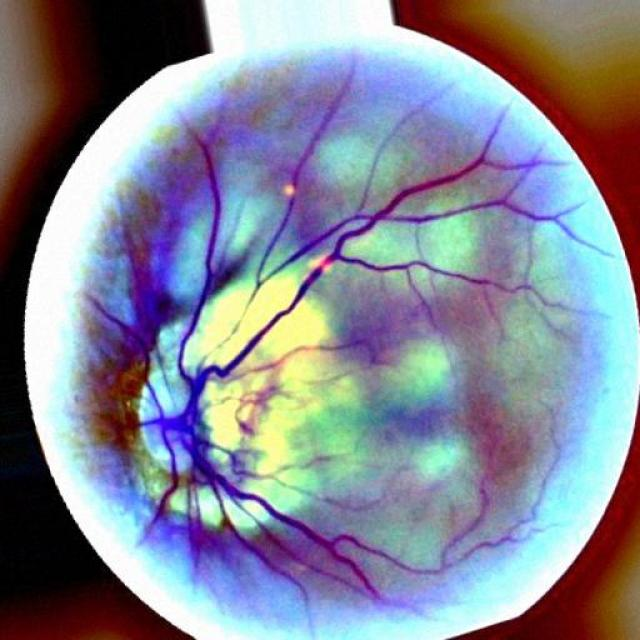Macula: (248, 162, 327, 227)
Nerves: (203, 109, 553, 375), (221, 475, 523, 597), (158, 417, 310, 613)
Optic Disk: (143, 282, 355, 526)
